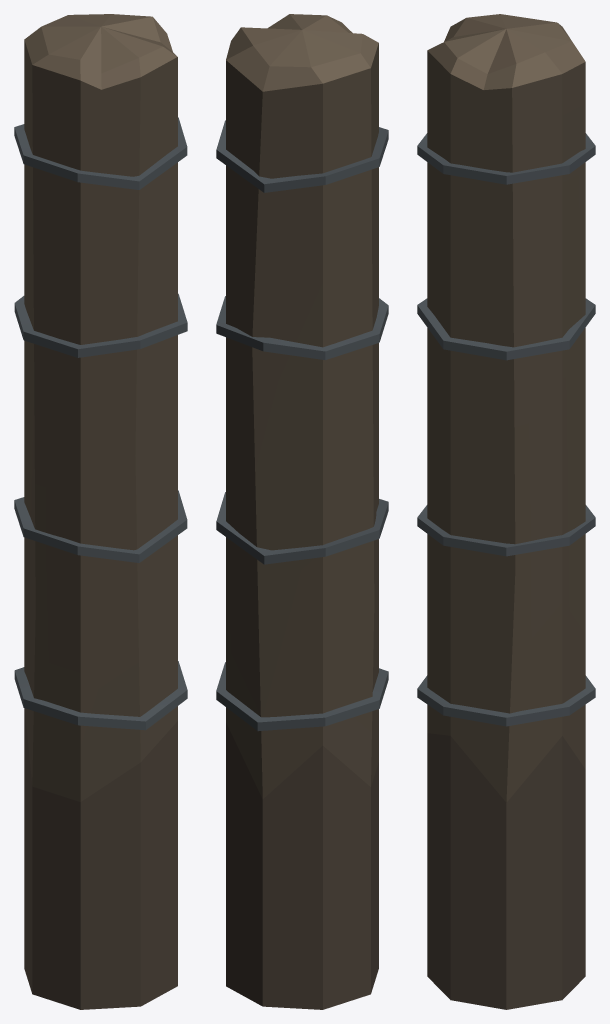
File: SM_Prop_Fence_Wire_Pole_01.glb
3 views of the same model, side by side, from view 1: azimuth 30°, elevation 25°; view 2: azimuth 150°, elevation 25°; view 3: azimuth 270°, elevation 25° (orthographic).
Parts seen in each view (by area): view 1: SM_Prop_Fence_Wire_Pole_01; view 2: SM_Prop_Fence_Wire_Pole_01; view 3: SM_Prop_Fence_Wire_Pole_01.
Part boxes in pixels (x1,y1,x2,y2): SM_Prop_Fence_Wire_Pole_01: (14,14,187,1009); SM_Prop_Fence_Wire_Pole_01: (216,14,388,1009); SM_Prop_Fence_Wire_Pole_01: (417,14,595,1009).
Bounding box in the file's own units: 0.2905 × 1.7 × 0.2905.
Materials: 1 (1 with a texture image).
